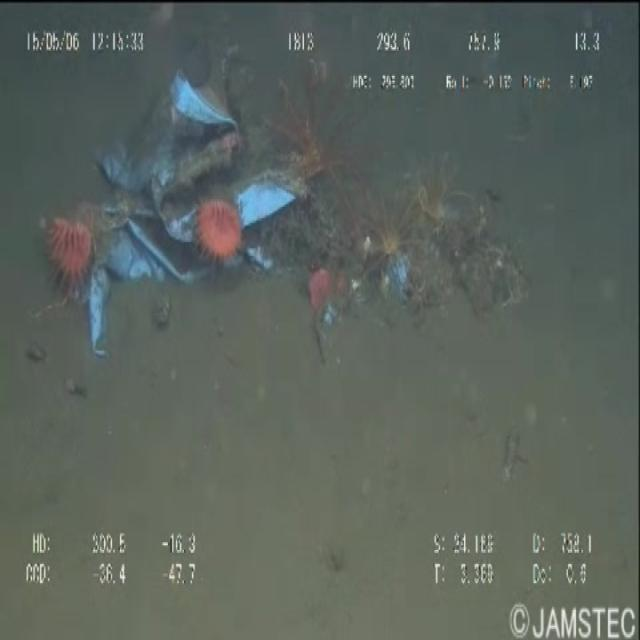Accessories: (51, 33, 341, 360)
